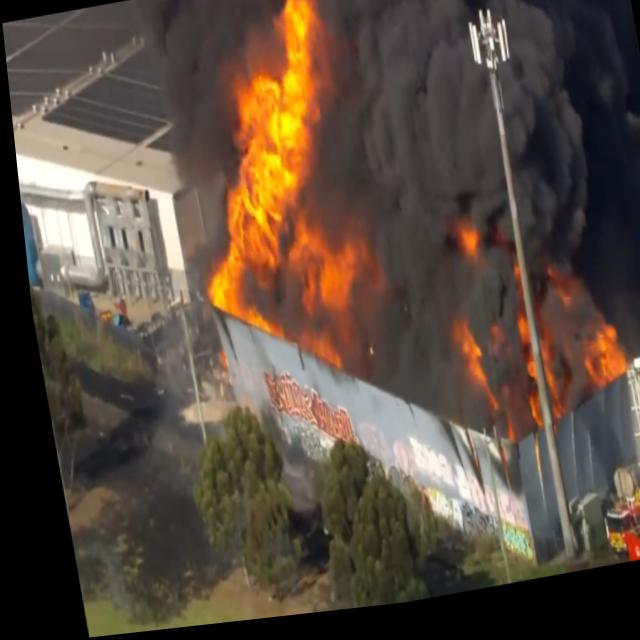Fire: (154, 0, 379, 375), (436, 322, 502, 439), (503, 305, 560, 439), (583, 478, 640, 578), (566, 330, 619, 404), (439, 205, 484, 282)
